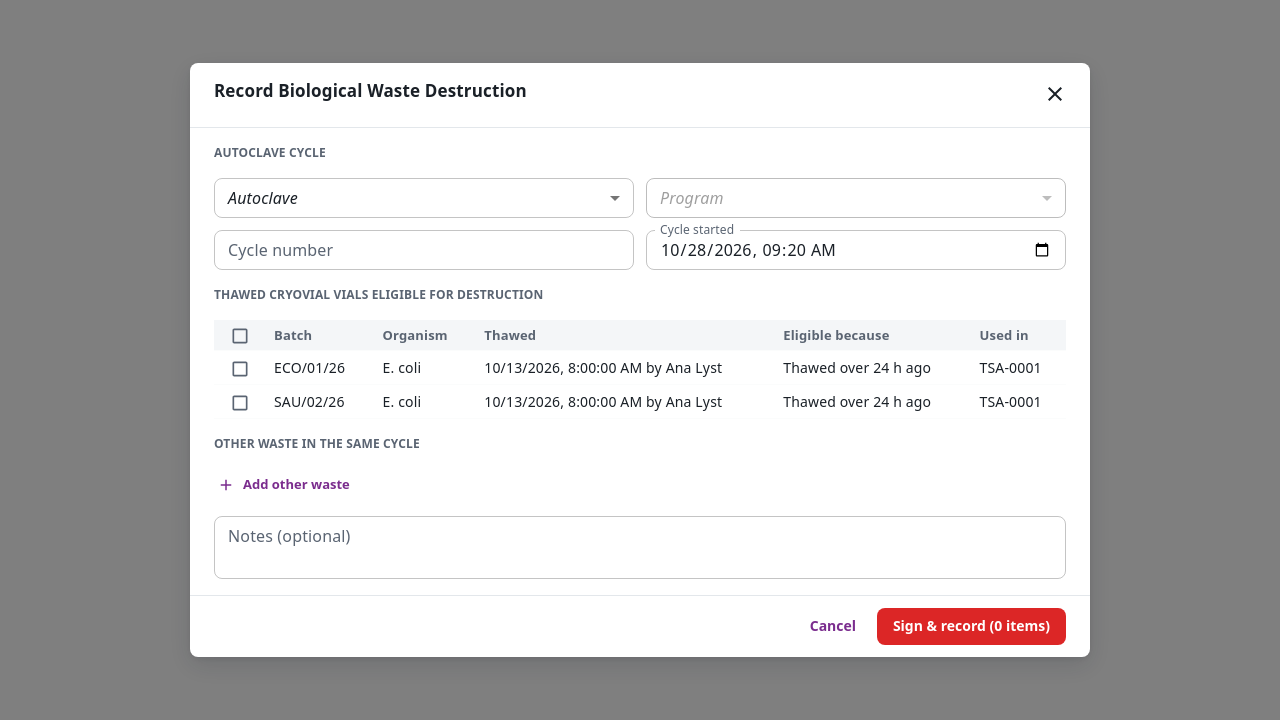
Test: RecordDestructionDialog › asks for the cycle details before signing
The image size is (1280, 720).
Expected: the text "ECO/01/26" is shown, top-left (262, 351), bottom-right (370, 385)
Click the button "Sign & record (0 items)".
click(971, 626)  # box top-left (877, 608), bottom-right (1066, 645)
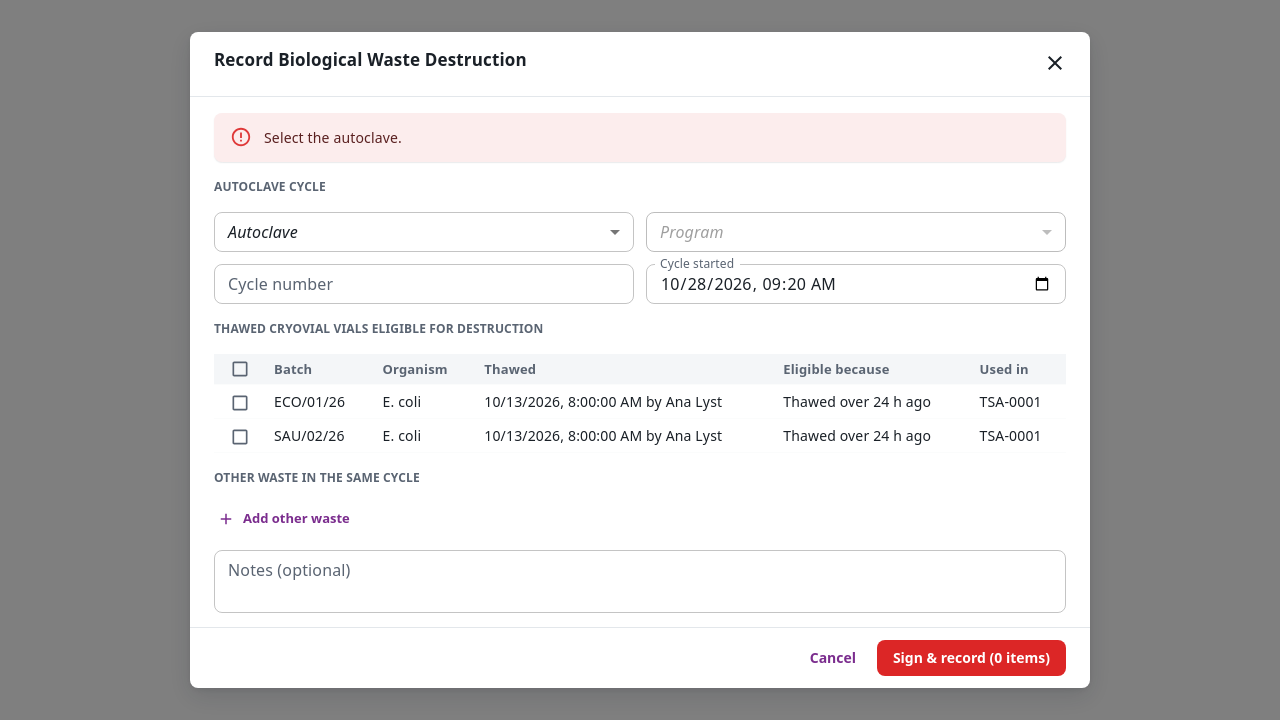
Expected: the text "Select the autoclave." is shown, top-left (264, 128), bottom-right (402, 147)
